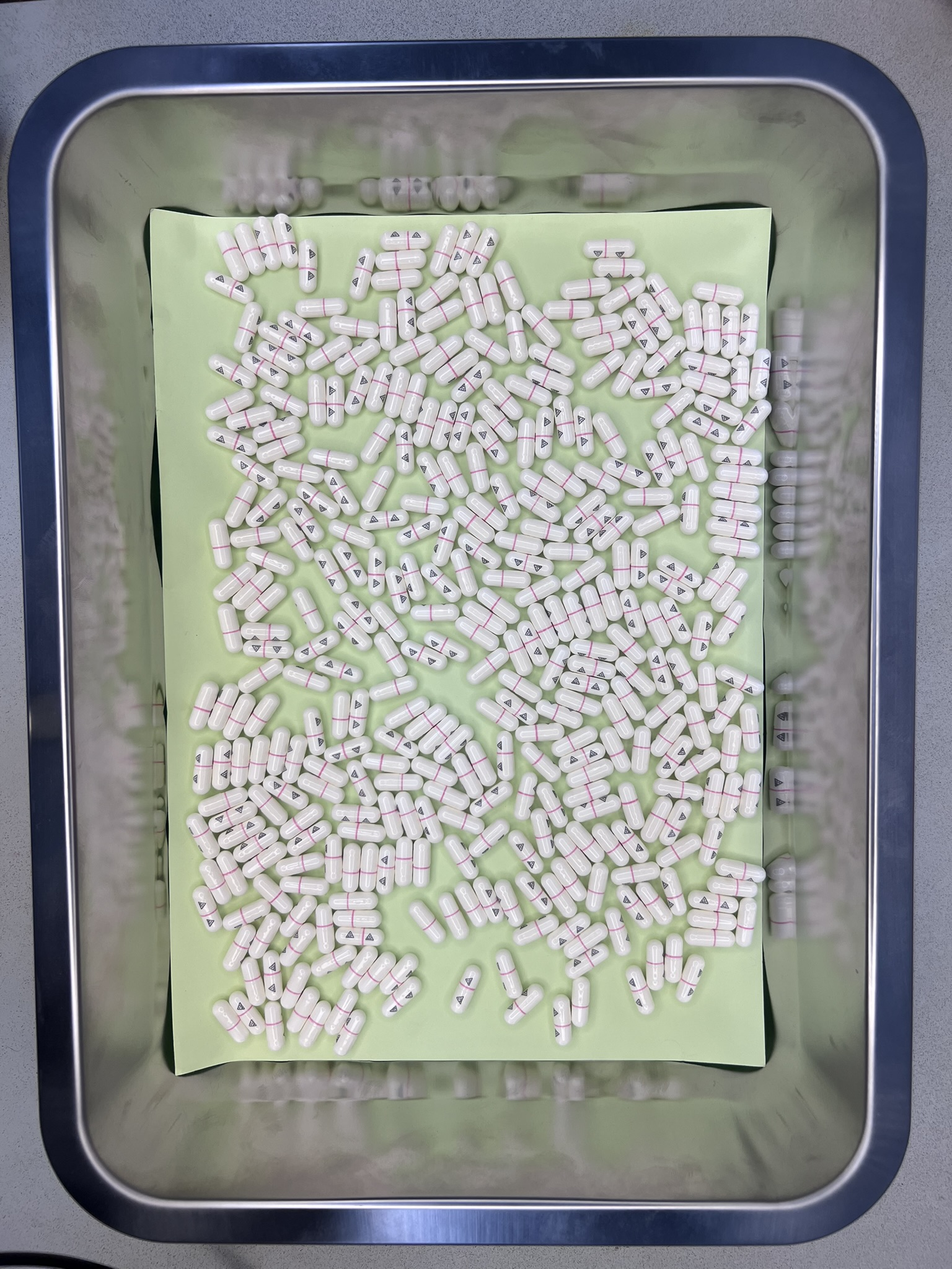Capsule: (308, 333, 362, 373), (597, 277, 648, 317), (642, 334, 688, 378), (649, 386, 695, 429), (463, 326, 510, 368), (562, 922, 610, 963), (584, 348, 628, 391), (231, 452, 279, 491), (255, 339, 304, 377), (476, 399, 518, 443), (285, 497, 325, 543), (559, 555, 607, 593), (245, 583, 288, 625), (520, 740, 562, 783), (339, 591, 381, 634), (420, 334, 464, 375), (381, 953, 420, 999), (471, 420, 510, 466), (622, 307, 660, 354), (540, 872, 578, 919), (647, 274, 684, 322), (241, 351, 289, 388), (224, 481, 258, 533), (612, 347, 648, 396), (591, 510, 634, 551), (278, 895, 319, 938), (521, 303, 561, 347), (644, 689, 688, 729), (649, 712, 688, 757), (403, 702, 448, 741), (659, 596, 694, 646), (295, 482, 341, 520), (656, 734, 694, 780), (636, 293, 673, 340), (276, 311, 324, 347), (518, 468, 566, 504), (246, 487, 288, 528), (483, 378, 524, 420), (574, 503, 616, 544), (606, 623, 648, 664), (468, 817, 510, 858), (252, 872, 293, 914), (563, 489, 606, 529), (452, 504, 495, 544), (414, 299, 466, 332), (465, 492, 509, 531), (258, 321, 307, 356), (528, 342, 577, 377), (735, 399, 773, 444), (434, 347, 479, 385), (697, 555, 735, 600), (476, 587, 521, 625), (617, 885, 655, 930), (409, 899, 446, 945), (279, 803, 325, 840), (298, 998, 332, 1048), (335, 339, 382, 375), (324, 470, 360, 517), (695, 391, 742, 427), (655, 832, 702, 868), (656, 426, 689, 477), (434, 723, 475, 764), (380, 976, 421, 1017), (451, 361, 493, 401), (707, 687, 742, 735), (232, 569, 274, 609), (515, 871, 554, 914), (213, 562, 256, 601), (417, 275, 461, 313), (554, 832, 592, 876), (243, 841, 287, 879), (551, 857, 588, 902), (280, 923, 317, 968), (223, 897, 269, 933), (712, 567, 748, 613), (564, 943, 610, 979), (238, 658, 284, 694), (287, 819, 333, 855), (207, 389, 257, 422), (388, 332, 438, 365), (361, 417, 396, 464), (640, 441, 675, 488), (648, 569, 695, 604), (656, 553, 703, 588), (186, 812, 221, 859), (421, 562, 461, 603), (616, 656, 656, 697), (247, 785, 288, 825), (467, 647, 509, 686), (370, 600, 409, 642), (548, 912, 591, 950), (593, 412, 627, 460), (573, 461, 621, 495), (593, 822, 630, 866), (343, 946, 379, 991), (225, 923, 258, 972), (682, 411, 731, 444), (437, 450, 470, 499), (206, 425, 258, 456), (462, 600, 508, 635), (675, 746, 721, 781), (611, 676, 646, 722), (508, 829, 543, 875), (333, 541, 368, 587), (374, 725, 420, 760), (255, 432, 305, 464), (526, 364, 576, 396), (208, 682, 240, 732), (296, 772, 346, 804), (419, 714, 459, 754), (333, 611, 372, 652), (314, 548, 348, 595), (294, 630, 341, 664), (263, 776, 310, 810), (566, 821, 604, 863), (543, 460, 586, 497), (469, 780, 512, 817), (633, 504, 681, 537), (325, 989, 358, 1037), (279, 518, 315, 562), (517, 487, 561, 523), (666, 647, 699, 695), (496, 689, 540, 725), (451, 752, 484, 800), (223, 693, 256, 741), (244, 693, 280, 737), (218, 816, 266, 849), (281, 963, 312, 1014), (428, 224, 459, 275), (216, 230, 247, 281), (444, 834, 479, 879), (362, 466, 394, 515), (450, 222, 482, 271), (603, 457, 652, 489), (472, 876, 504, 925), (396, 513, 442, 547), (527, 603, 561, 649), (601, 693, 635, 739), (658, 799, 692, 845), (497, 668, 543, 702), (374, 631, 408, 677), (358, 952, 397, 992), (459, 532, 501, 569), (717, 664, 764, 697), (205, 270, 252, 303), (417, 451, 450, 498), (514, 575, 561, 608), (287, 987, 320, 1034), (245, 546, 295, 577), (208, 800, 258, 831), (234, 827, 278, 862), (504, 374, 552, 406), (535, 697, 583, 729), (715, 600, 749, 645), (233, 223, 263, 274), (189, 681, 220, 730), (494, 260, 525, 309), (450, 966, 481, 1015), (599, 726, 632, 772), (640, 797, 673, 843), (536, 781, 569, 827), (465, 740, 498, 786), (384, 696, 430, 729), (613, 821, 649, 863), (234, 302, 263, 354), (679, 350, 731, 379), (261, 385, 308, 417), (491, 472, 523, 519), (551, 725, 598, 757), (303, 755, 350, 787), (249, 912, 281, 959), (207, 355, 251, 389), (456, 617, 500, 651), (336, 1009, 367, 1057), (328, 519, 376, 550), (554, 686, 602, 717), (410, 755, 458, 786), (198, 858, 231, 903), (216, 851, 249, 896), (399, 371, 427, 424), (679, 430, 708, 481), (447, 402, 476, 453), (197, 787, 248, 816), (508, 984, 544, 1025), (292, 587, 324, 633), (562, 593, 594, 639), (211, 999, 246, 1041), (544, 594, 574, 643), (516, 914, 559, 948), (634, 882, 668, 925), (437, 893, 468, 940), (401, 640, 448, 671), (642, 601, 673, 648), (518, 620, 549, 667), (559, 742, 606, 773), (345, 364, 373, 416), (580, 329, 632, 357), (562, 781, 612, 810), (595, 571, 624, 621), (682, 368, 730, 398), (470, 226, 500, 274), (455, 882, 487, 927), (566, 758, 614, 788), (437, 805, 485, 835), (272, 216, 299, 269), (253, 217, 281, 268), (413, 397, 441, 448), (430, 399, 458, 450), (503, 630, 534, 676), (315, 655, 364, 684), (684, 701, 713, 750), (658, 866, 687, 915), (415, 794, 444, 843), (395, 791, 424, 840), (192, 885, 222, 932), (347, 759, 377, 806), (478, 274, 505, 326), (365, 361, 392, 413), (505, 549, 555, 577), (620, 588, 648, 638), (647, 645, 675, 695), (282, 664, 330, 693), (430, 518, 459, 566), (495, 880, 525, 926), (540, 645, 570, 691), (717, 857, 768, 884), (226, 404, 277, 431), (476, 698, 519, 730), (426, 630, 469, 662), (459, 275, 487, 324), (678, 954, 706, 1003), (520, 516, 569, 544), (450, 548, 478, 597), (228, 991, 259, 1035), (274, 458, 324, 485), (384, 365, 409, 419), (567, 654, 617, 681), (424, 780, 469, 810), (323, 735, 373, 762), (311, 947, 354, 978), (571, 313, 622, 339), (709, 498, 762, 523), (572, 794, 621, 821), (530, 808, 557, 857), (378, 792, 405, 841), (617, 782, 645, 829), (699, 817, 728, 862), (349, 249, 374, 301), (330, 314, 380, 340), (626, 966, 652, 1016), (466, 442, 491, 494), (368, 675, 418, 701), (706, 875, 760, 899), (495, 950, 522, 998), (207, 519, 233, 568), (505, 310, 529, 363), (229, 525, 282, 549), (720, 770, 744, 823), (252, 416, 302, 441), (400, 551, 425, 601), (282, 734, 307, 784), (216, 603, 242, 651), (553, 395, 577, 447), (581, 584, 607, 632), (586, 861, 610, 913), (385, 566, 411, 614), (570, 637, 619, 662), (713, 445, 764, 469), (693, 282, 744, 306), (701, 768, 725, 819), (653, 777, 704, 801), (572, 404, 595, 457), (628, 376, 681, 399), (707, 515, 757, 539), (400, 493, 448, 518), (495, 530, 543, 555), (514, 770, 538, 820), (303, 706, 327, 756), (275, 852, 325, 876), (565, 673, 611, 699), (242, 958, 266, 1007), (687, 890, 736, 914), (308, 448, 357, 472), (559, 278, 610, 301), (720, 725, 743, 776), (297, 240, 320, 291), (394, 422, 416, 475), (691, 611, 716, 657), (268, 726, 291, 776), (613, 862, 660, 886), (708, 536, 757, 559), (729, 353, 752, 402), (362, 751, 411, 774), (709, 481, 760, 503), (375, 251, 426, 273), (697, 662, 719, 713), (584, 238, 637, 259), (534, 406, 555, 459), (739, 769, 762, 817), (605, 907, 628, 955), (191, 744, 214, 792), (739, 705, 761, 755), (623, 486, 673, 508), (736, 898, 758, 948), (248, 734, 270, 784), (330, 803, 380, 825), (682, 299, 703, 351), (396, 288, 416, 342), (552, 993, 572, 1047), (262, 951, 284, 1000), (262, 1001, 284, 1050), (380, 229, 429, 251), (739, 304, 760, 355), (546, 299, 597, 320), (359, 509, 410, 530), (279, 875, 330, 896), (326, 375, 346, 428), (715, 465, 768, 485), (701, 302, 722, 352), (243, 640, 293, 661), (230, 737, 251, 787), (571, 977, 591, 1029), (315, 901, 335, 953), (298, 298, 350, 318), (495, 730, 515, 782), (371, 270, 418, 292), (593, 257, 642, 278), (482, 568, 531, 589), (611, 539, 631, 590), (720, 306, 741, 354), (686, 910, 734, 931), (664, 934, 684, 984), (241, 623, 291, 643), (686, 928, 736, 948), (349, 687, 369, 737), (212, 740, 232, 790), (307, 374, 326, 426), (377, 844, 396, 896), (336, 927, 383, 948), (378, 298, 398, 347), (680, 485, 700, 534), (367, 545, 386, 596), (374, 773, 425, 792), (412, 840, 432, 888), (631, 726, 651, 774), (395, 838, 414, 888), (646, 939, 665, 989), (630, 538, 649, 588), (332, 690, 351, 740), (360, 843, 379, 892), (516, 723, 565, 742), (750, 349, 771, 393), (542, 543, 593, 561), (325, 833, 343, 884), (342, 843, 361, 891), (517, 416, 535, 466), (334, 910, 381, 929), (333, 892, 379, 911), (411, 603, 457, 622), (340, 824, 385, 843)
